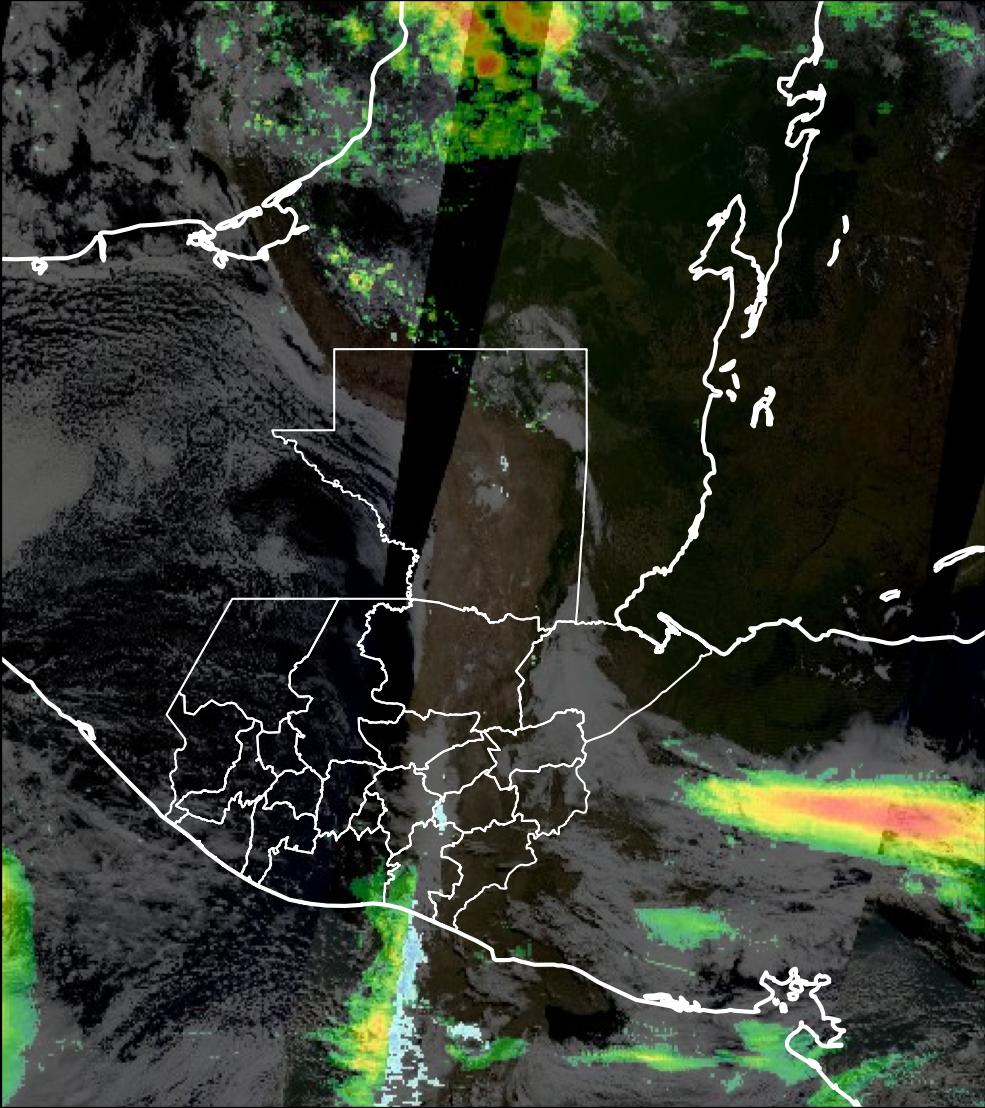precipitacion: (728, 770, 985, 880)
